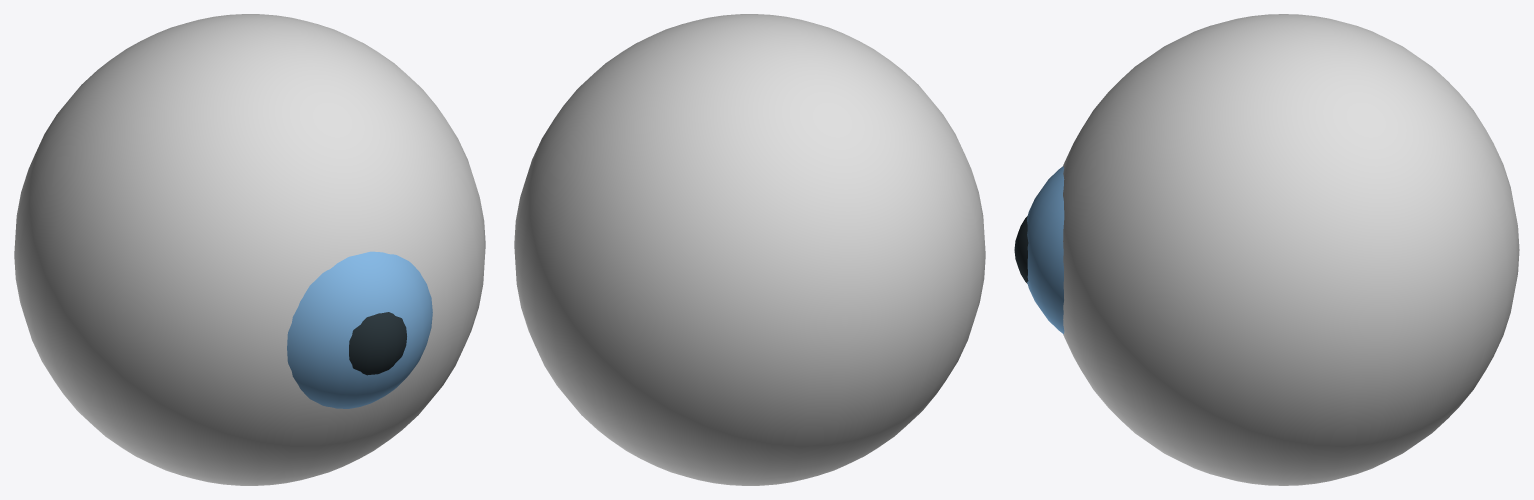
File: mata.glb
3 views of the same model, side by side, from view 1: azimuth 30°, elevation 25°; view 2: azimuth 150°, elevation 25°; view 3: azimuth 270°, elevation 25° (orthographic).
Size of the model in its own units: 2 by 2 by 2.14.
